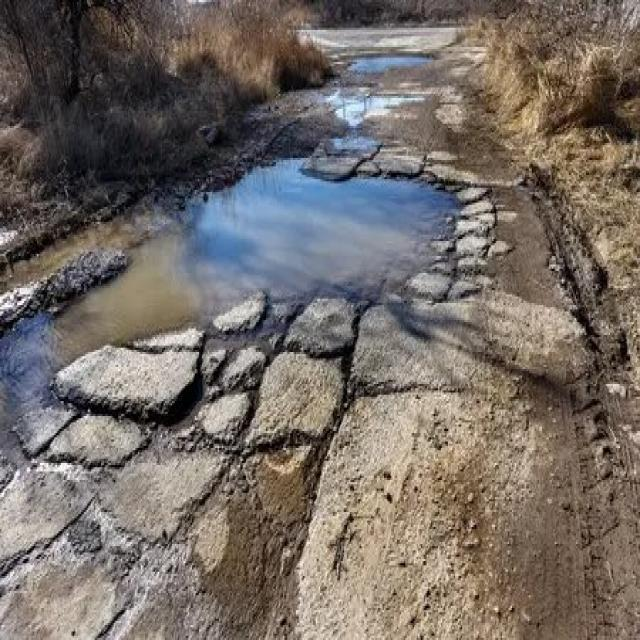Pothole: (14, 145, 472, 337), (344, 43, 430, 79)
